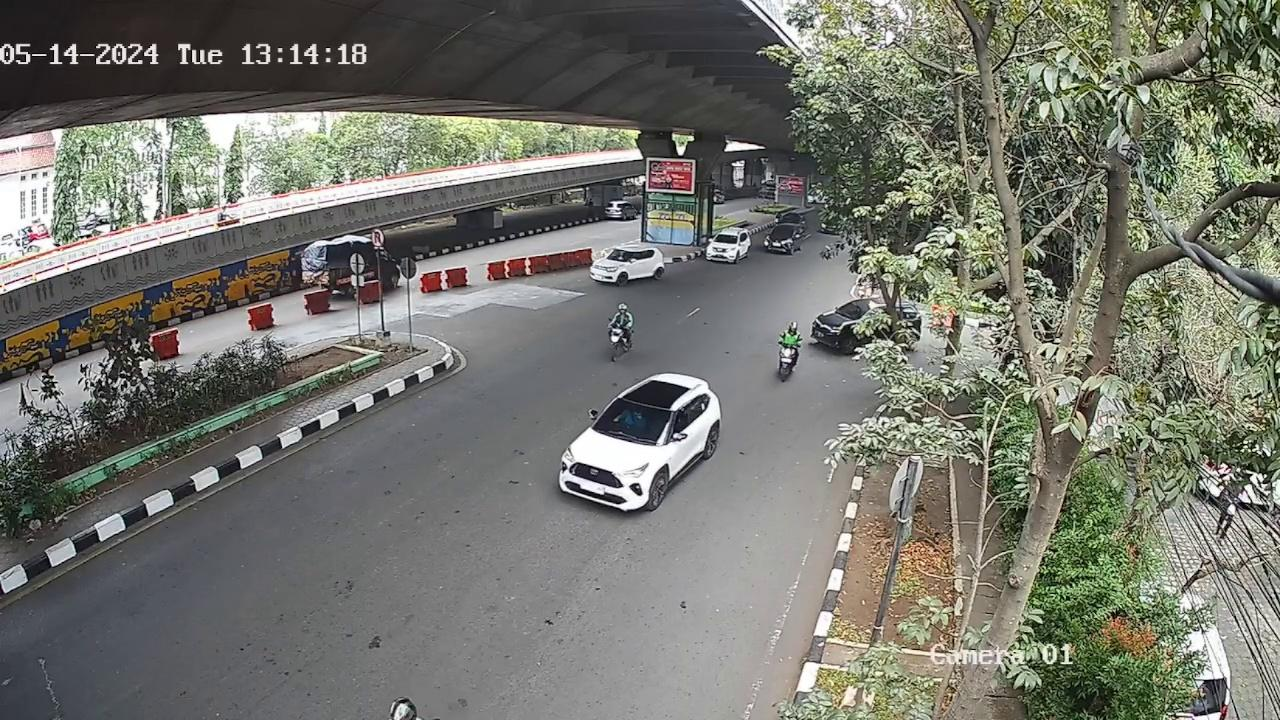pakai: (623, 406, 643, 429)
windshield: (597, 399, 668, 443)
